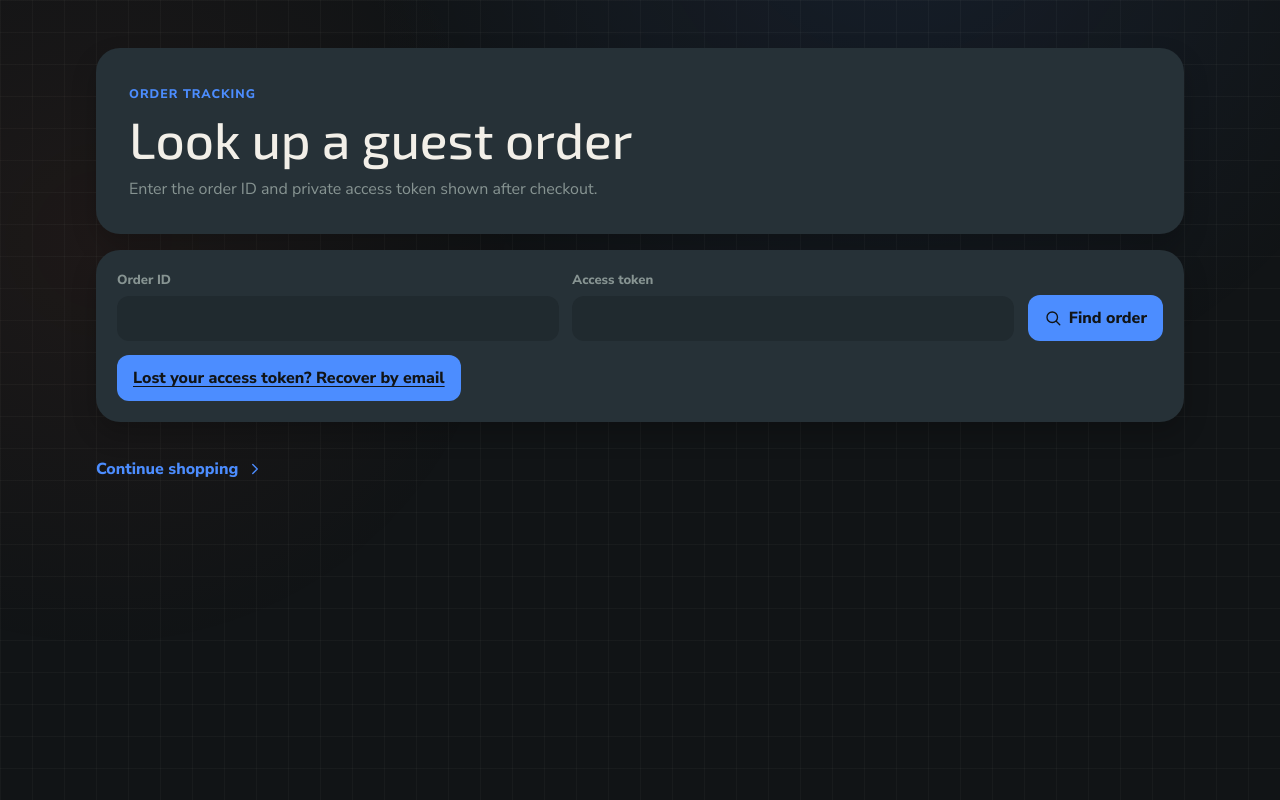
Test: GuestOrderLookupPage › validates order ID and token inline before making a request
Click the button "Find order" at (1095, 318), box [1028,295,1163,341]
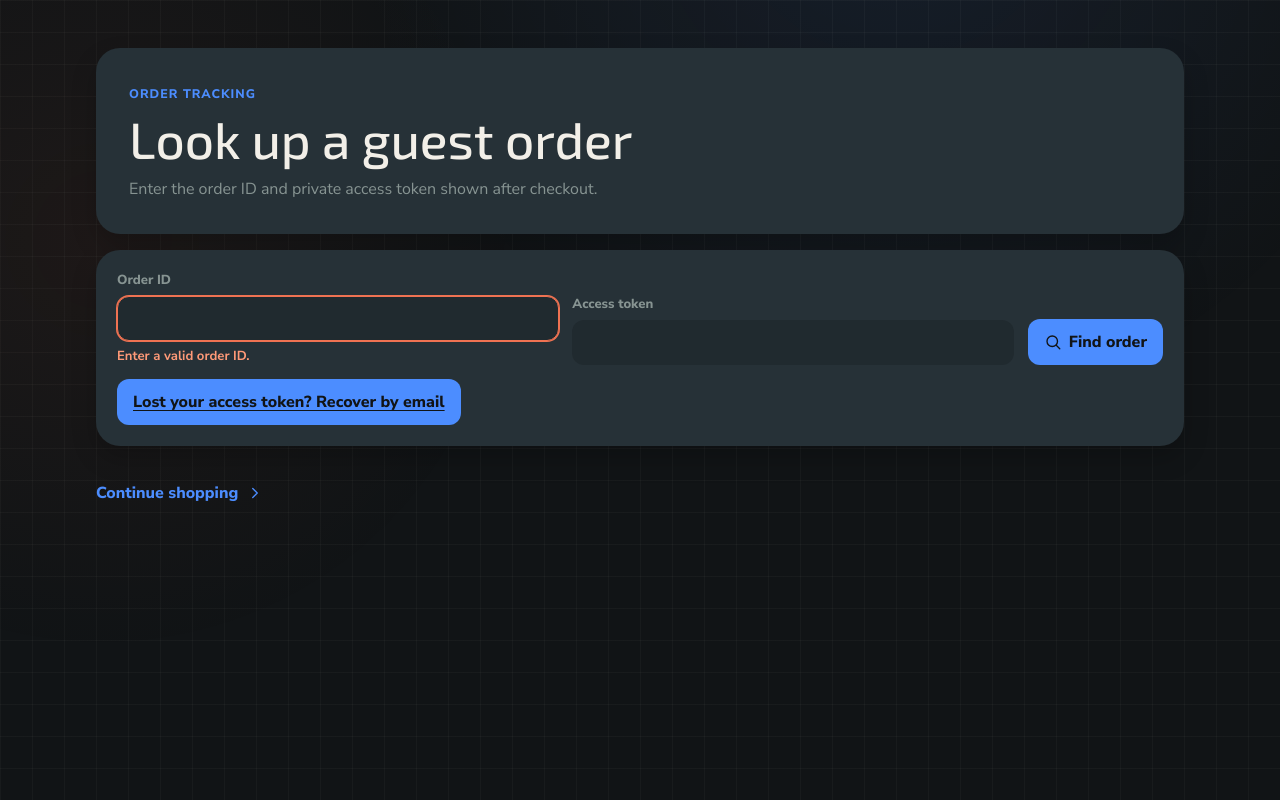
expect the message shows "valid order ID": met, box [117,347,250,365]
Type "42" into the field labelled "Order ID Enter a valid order ID." at (338, 319), box [117,296,559,341]
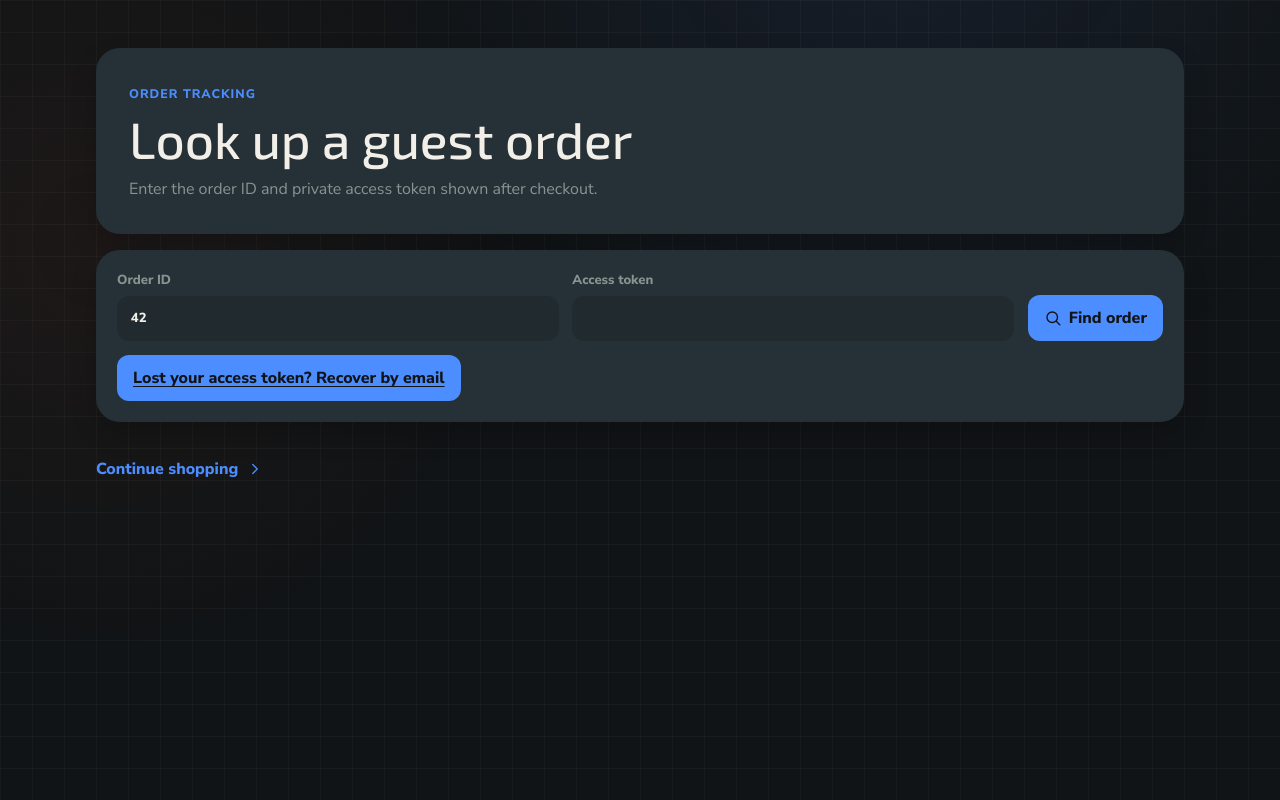
Click the button "Find order" at (1095, 318), box [1028,295,1163,341]
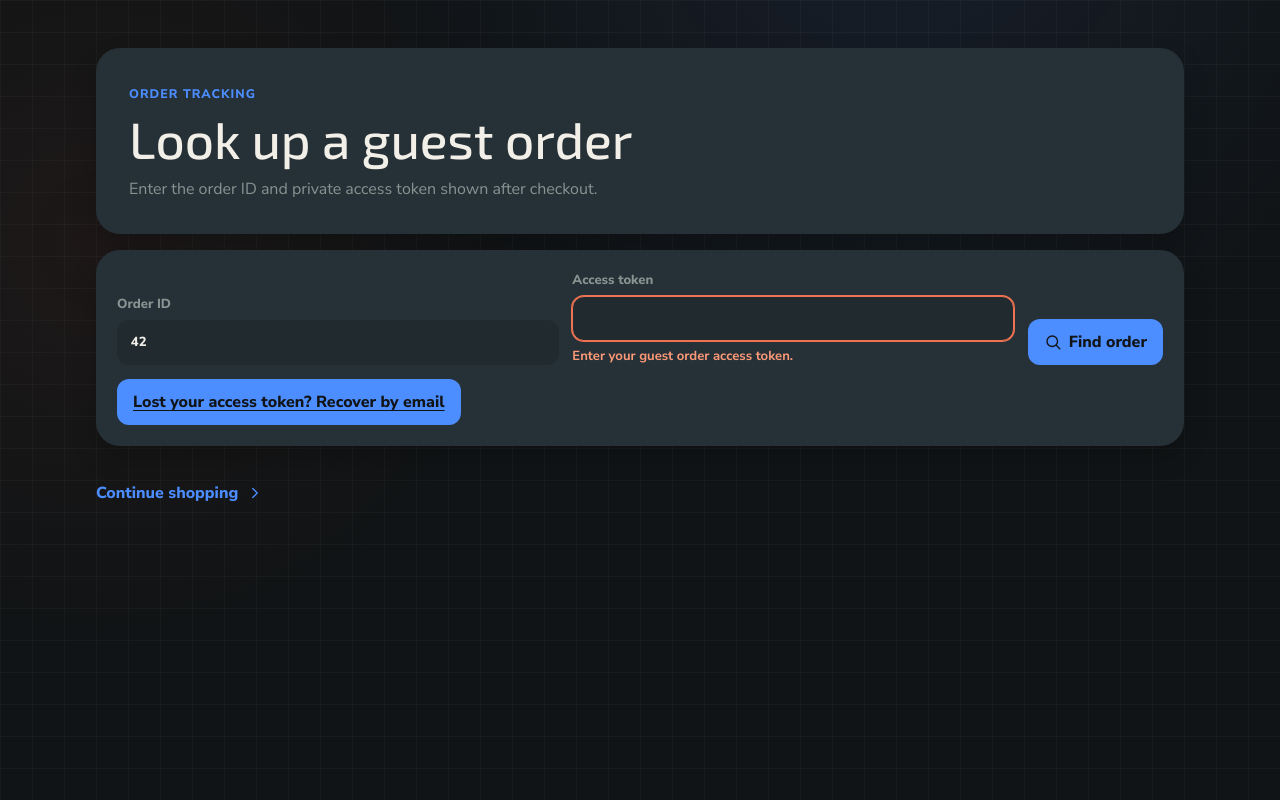
expect the message shows "access token": met, box [572,347,793,365]
